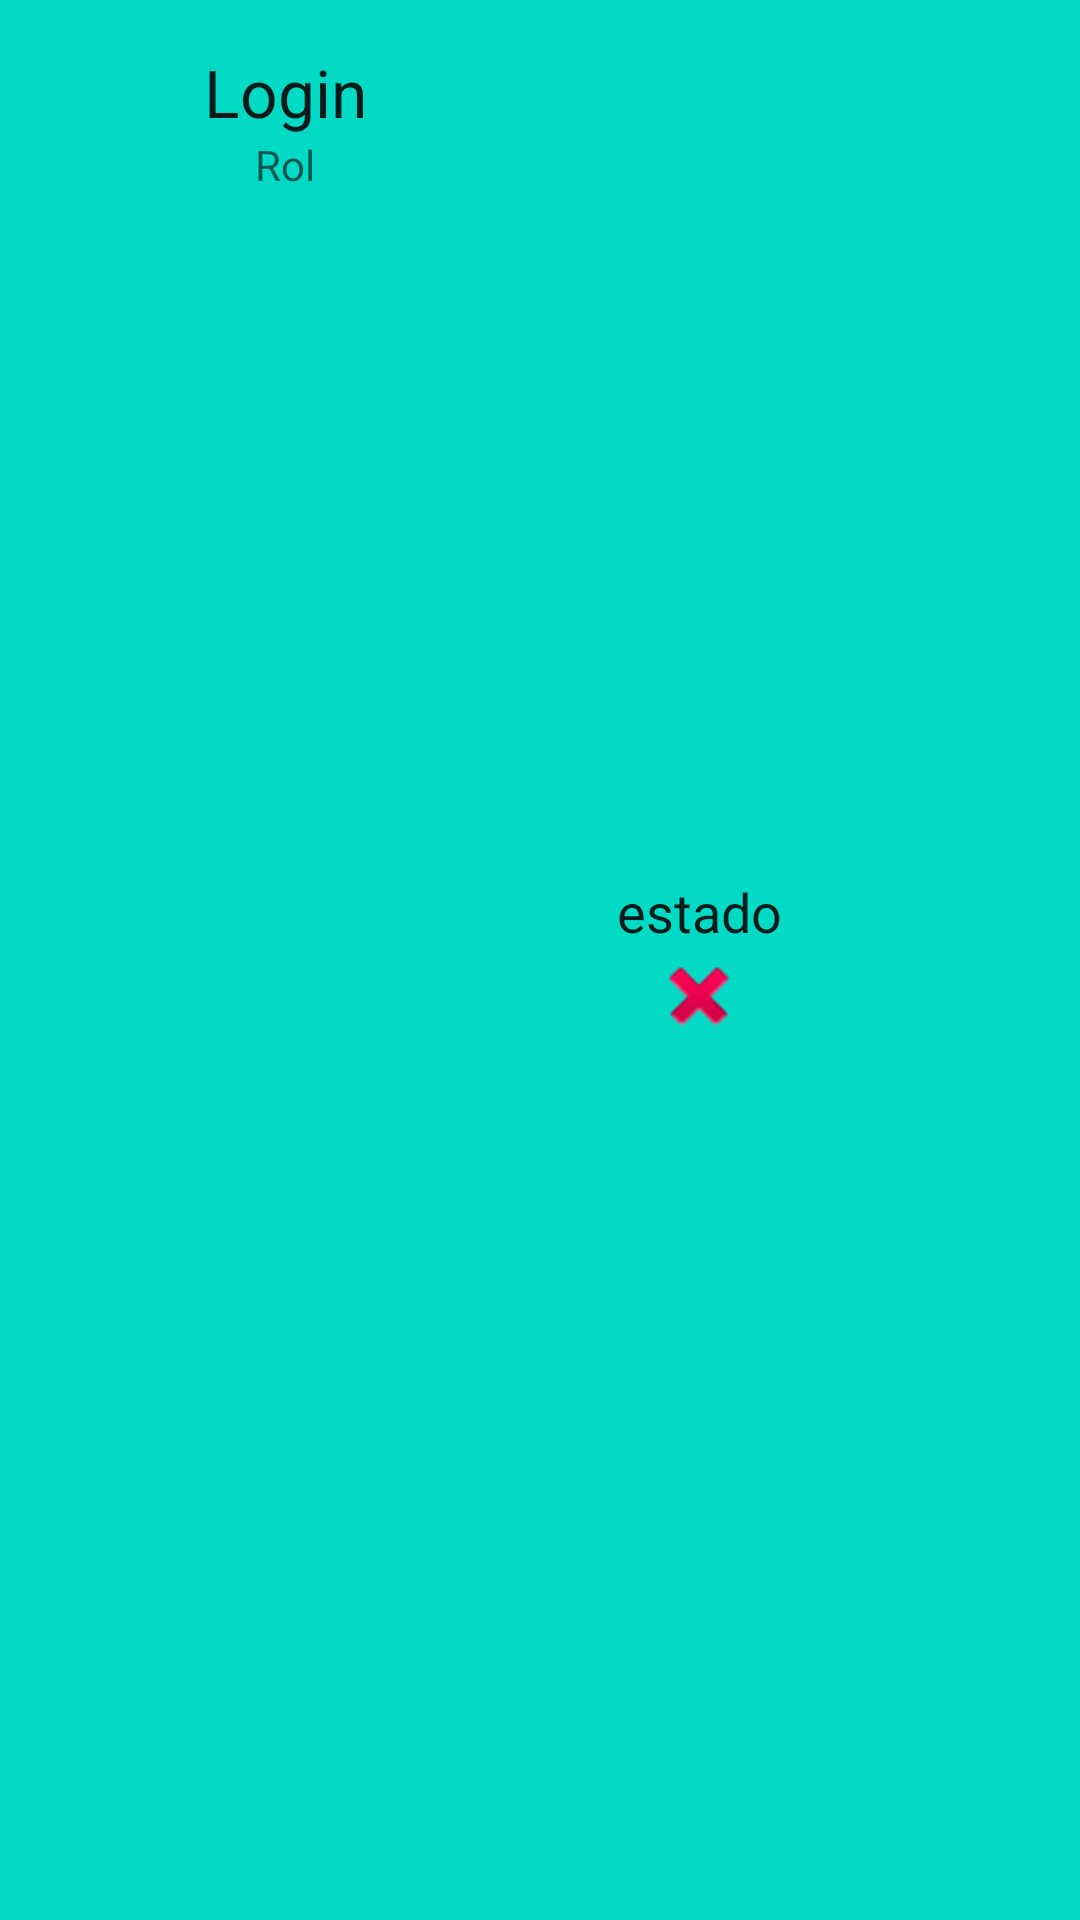

Icon click points for this 1080 × 1920 phone screenshot, format point (x, y):
delete: point (699, 996)
